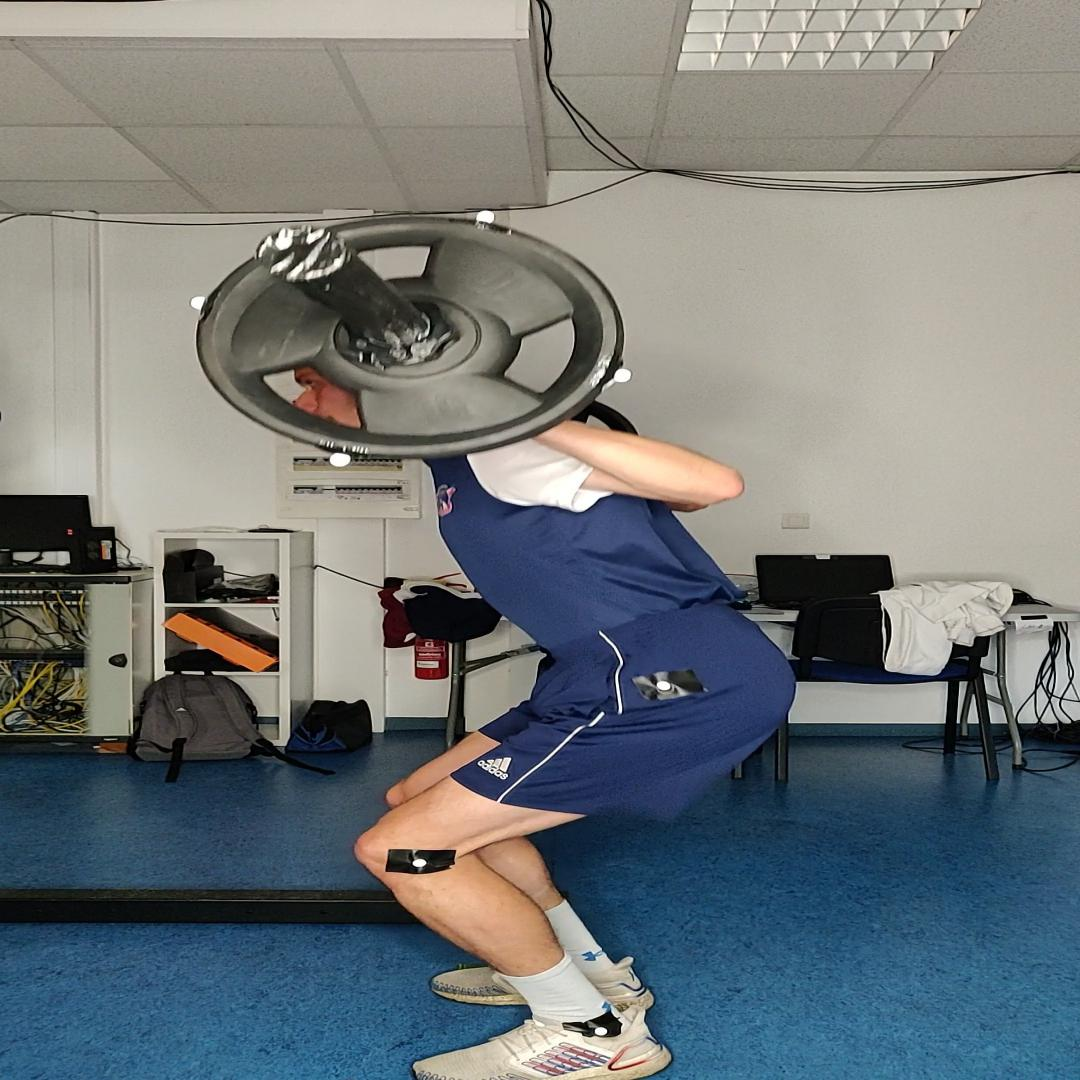Bar: (256, 225, 347, 281)
Barbell: (197, 215, 623, 459)
